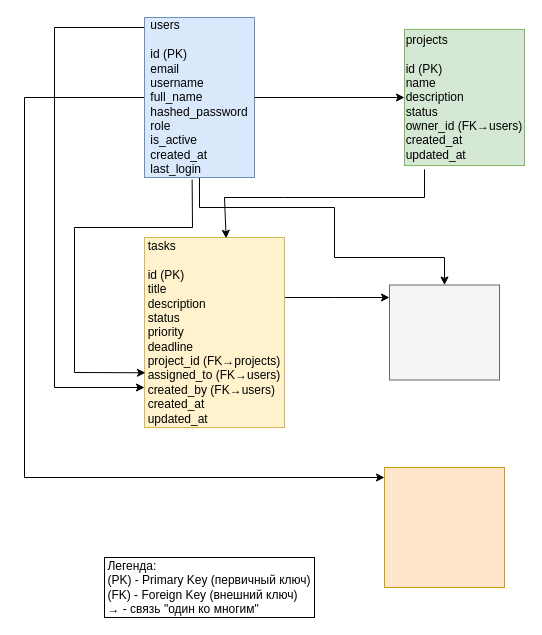
The diagram is 542 pixels wide and 635 high, and some of its shapes have lost their labels. Here are the shapes that lost their labels. From the top down, the centre of each, then its label:
the point at 444,332: comments id (PK) content task_id (FK→tasks) user_id (FK→users) created_at
the point at 444,527: notifications id (PK) message type is_read user_id (FK→users) created_at
